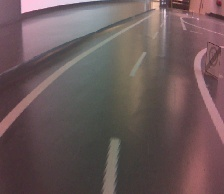zone 30 stop sign: (204, 40, 223, 77)
